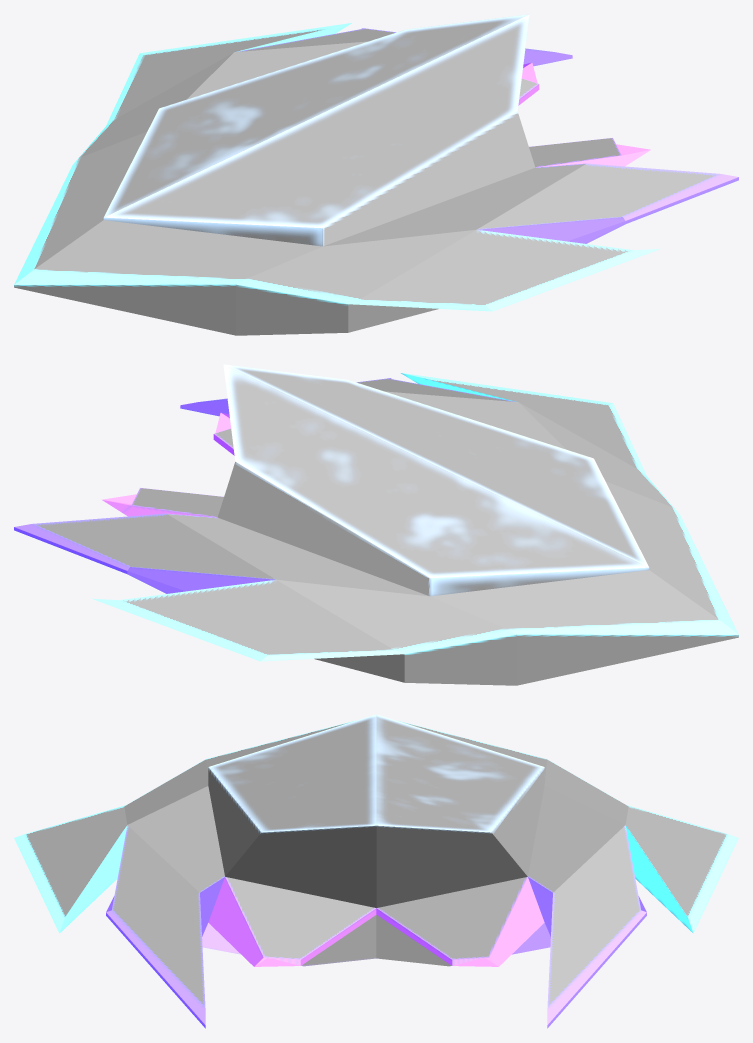
File: player_textureReady.fbx
The picture shows the model from 3 angles, top to bottom: view 1: azimuth 30°, elevation 25°; view 2: azimuth 150°, elevation 25°; view 3: azimuth 270°, elevation 25°; orthographic projection. The views are drawn at different scales.
Parts seen in each view (by area): view 1: Cube; view 2: Cube; view 3: Cube.
Boxes of the visible parts, x1=… form: Cube: x1=14, y1=14, x2=738, y2=335; Cube: x1=14, y1=364, x2=738, y2=685; Cube: x1=14, y1=714, x2=738, y2=1028.
Size of the model in its own units: 453 by 115 by 431.
